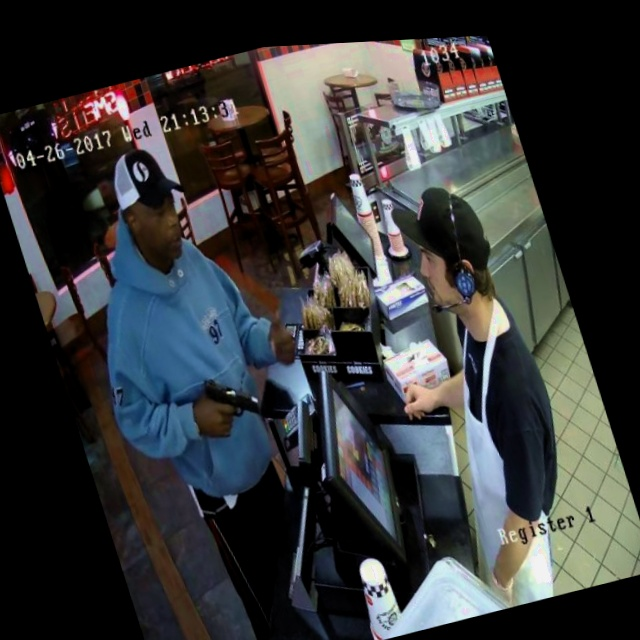gun: (181, 353, 280, 443)
